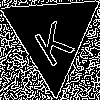K: (27, 11, 76, 69)
